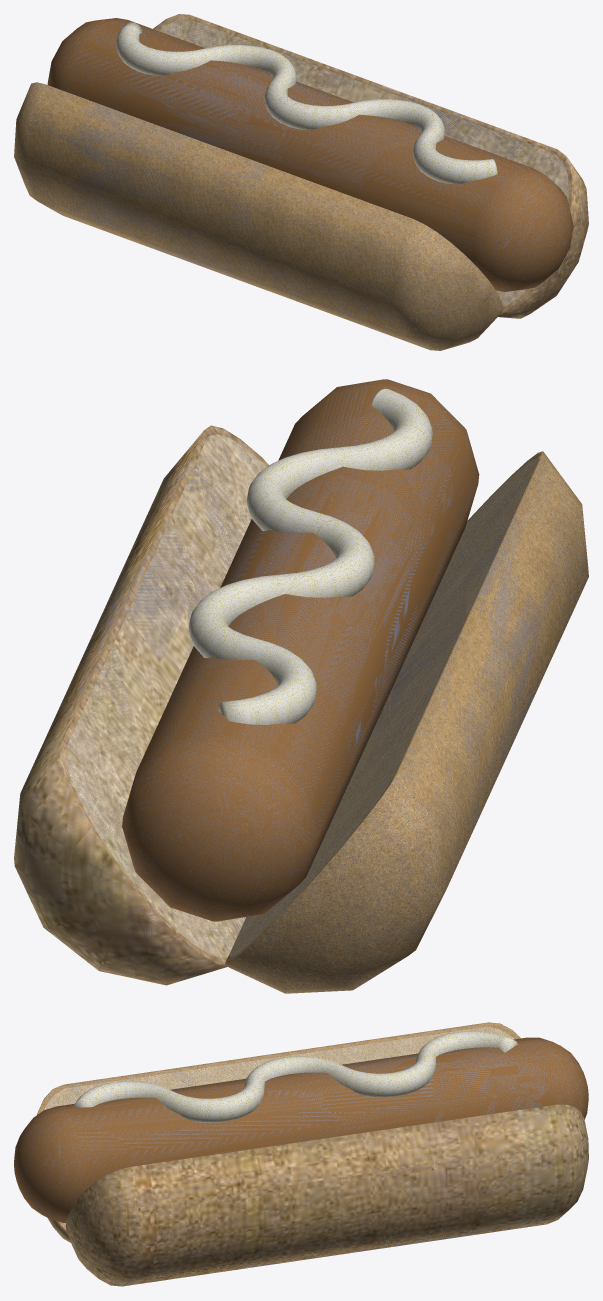
3 renders of one model, top to bottom at view 1: azimuth 30°, elevation 25°; view 2: azimuth 150°, elevation 25°; view 3: azimuth 270°, elevation 25°, orthographic. The views are drawn at different scales.
Visible parts, largest first — view 1: SketchUp (×5); view 2: SketchUp (×6); view 3: SketchUp (×5).
Part boxes in pixels (x1=…): SketchUp (×5): x1=14, y1=14, x2=588, y2=350; SketchUp (×6): x1=14, y1=379, x2=588, y2=993; SketchUp (×5): x1=14, y1=1022, x2=588, y2=1286.
Size of the model in its own units: 46.78 by 67.93 by 21.13.
6 materials, 2 textured.
